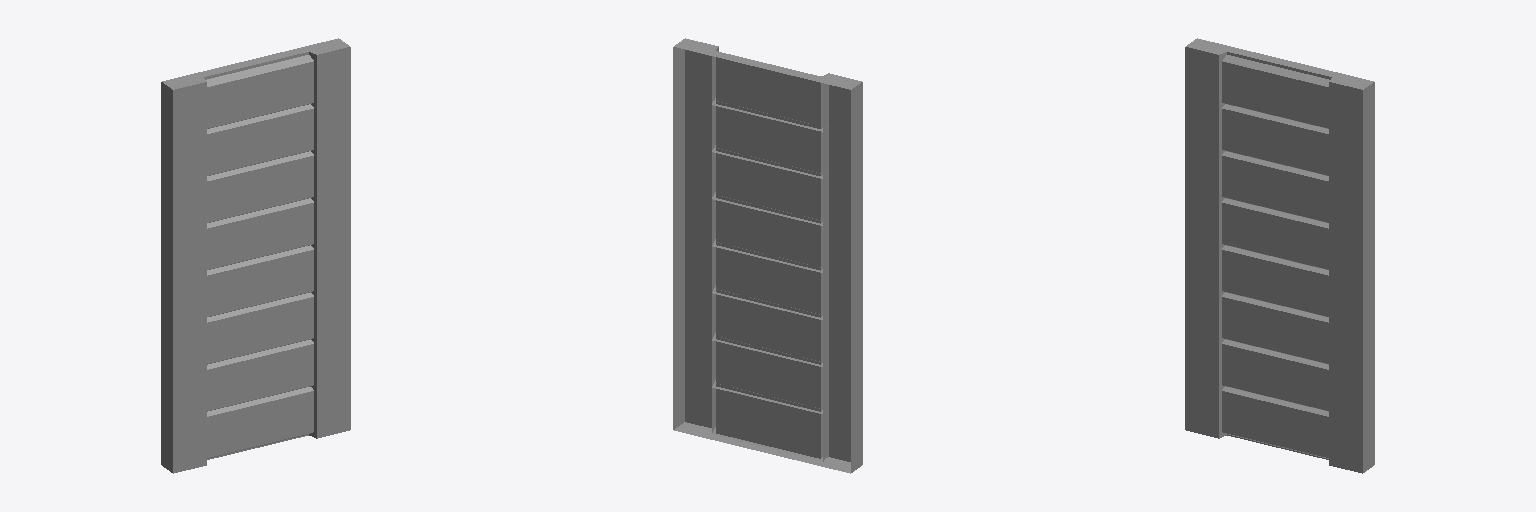
The model's file is Door4.obj.
The picture shows the model from 3 angles: view 1: azimuth 30°, elevation 25°; view 2: azimuth 150°, elevation 25°; view 3: azimuth 330°, elevation 25°; orthographic projection.
Visible parts, largest first — view 1: Door4_Cube.169; view 2: Door4_Cube.169; view 3: Door4_Cube.169.
Boxes of the visible parts, x1=… form: Door4_Cube.169: x1=161, y1=38, x2=350, y2=473; Door4_Cube.169: x1=673, y1=38, x2=862, y2=473; Door4_Cube.169: x1=1185, y1=38, x2=1374, y2=473.
Bounding box in the file's own units: 0.4437 × 0.9162 × 0.0501.